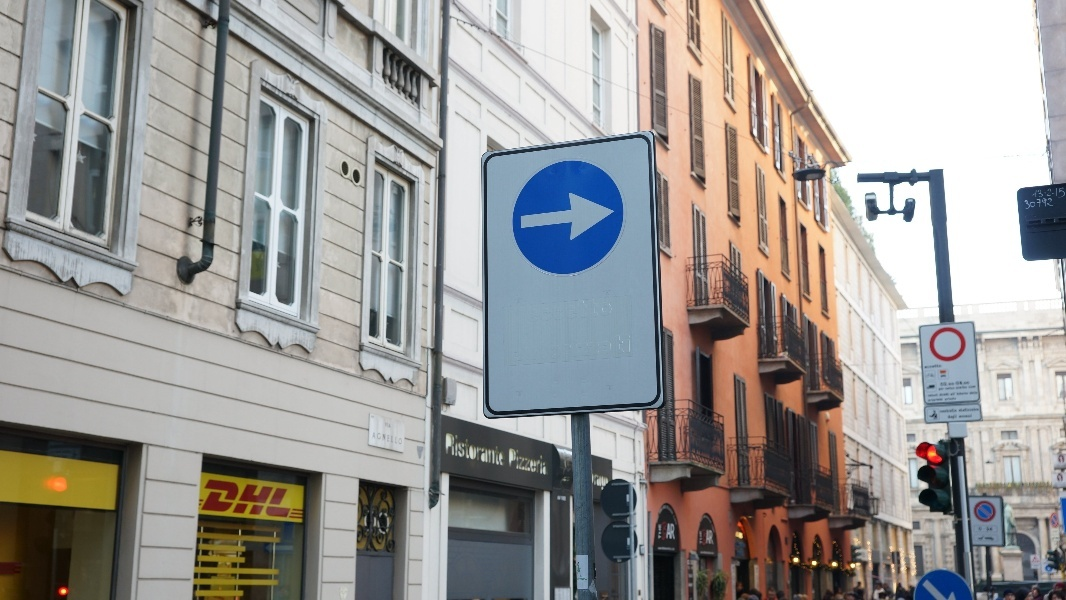text: (209, 480, 224, 518), (225, 480, 240, 518), (241, 480, 256, 518), (257, 480, 272, 518), (273, 480, 288, 518), (449, 433, 464, 468), (465, 433, 480, 468), (481, 433, 496, 468), (513, 333, 528, 363), (529, 333, 544, 363), (545, 333, 560, 363), (561, 333, 576, 363), (577, 333, 592, 363), (593, 333, 608, 363), (609, 333, 624, 363), (529, 297, 544, 325), (545, 297, 560, 325), (561, 297, 576, 325), (577, 297, 592, 325), (593, 297, 608, 325), (513, 448, 528, 476), (529, 448, 544, 476), (497, 433, 507, 468), (593, 474, 609, 491), (289, 480, 296, 518), (658, 524, 672, 540), (385, 432, 400, 446), (662, 522, 672, 541), (625, 333, 631, 363), (1041, 187, 1056, 199), (1025, 198, 1040, 210), (705, 529, 715, 546), (659, 503, 672, 515), (1041, 198, 1054, 210), (675, 515, 688, 526), (545, 448, 550, 476), (374, 432, 384, 446), (659, 514, 672, 524), (609, 297, 613, 325), (1057, 187, 1066, 199), (961, 407, 976, 413), (509, 448, 512, 476), (929, 364, 942, 370), (446, 433, 448, 468), (978, 527, 992, 532), (949, 414, 960, 420), (945, 409, 958, 414), (929, 398, 944, 402), (961, 414, 973, 419), (673, 522, 676, 541), (526, 297, 528, 325), (658, 547, 672, 551), (700, 531, 704, 545), (946, 397, 960, 401), (945, 382, 955, 387), (1036, 187, 1040, 199), (961, 381, 970, 386), (929, 393, 938, 398), (668, 505, 672, 516), (578, 578, 592, 581), (946, 387, 960, 390), (705, 551, 715, 555), (951, 392, 960, 396), (702, 529, 704, 546), (961, 392, 969, 396), (985, 537, 992, 541), (961, 386, 968, 390), (673, 505, 675, 516), (945, 393, 950, 397), (970, 392, 976, 395), (977, 407, 980, 413), (940, 393, 944, 397), (941, 382, 944, 387), (957, 381, 960, 386), (939, 388, 944, 391), (941, 409, 944, 414), (401, 432, 402, 446), (673, 547, 676, 551), (701, 551, 704, 555), (926, 364, 928, 370), (957, 386, 960, 390), (970, 386, 976, 388), (993, 537, 995, 541), (958, 392, 960, 396), (977, 392, 978, 395)
